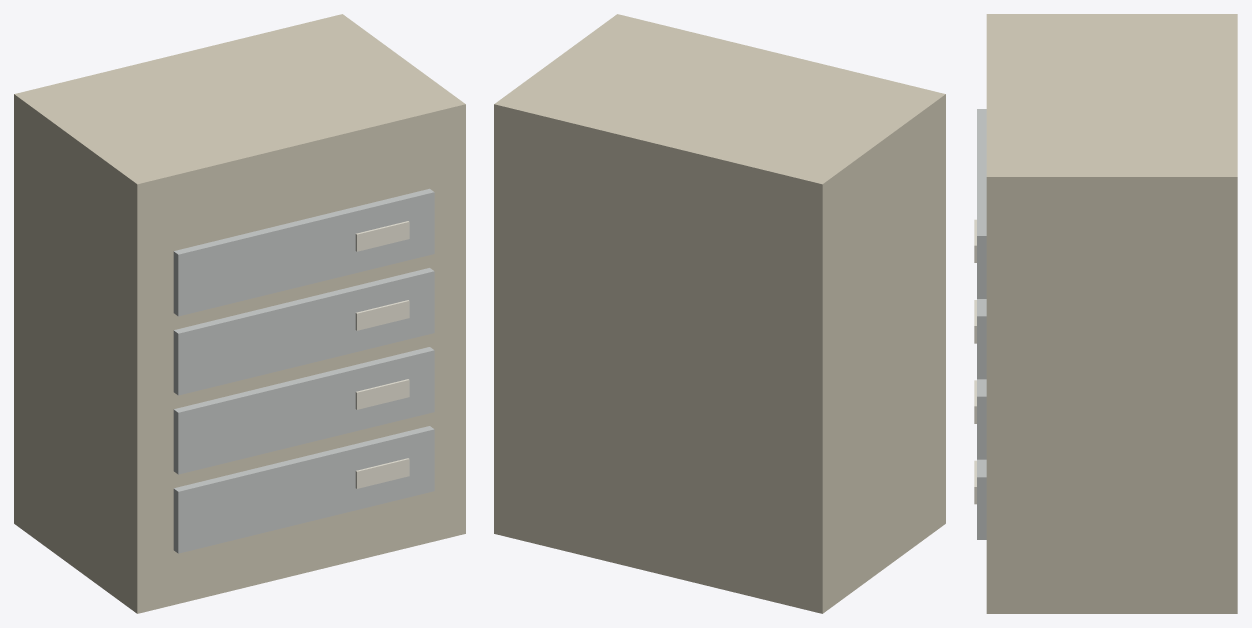
The model's file is disk_unit_01.glb.
The picture shows the model from 3 angles, left to right: view 1: azimuth 30°, elevation 25°; view 2: azimuth 150°, elevation 25°; view 3: azimuth 270°, elevation 25°; orthographic projection.
Parts seen in each view (by area): view 1: unit, drawer0, drawer1, drawer2, drawer3, label0, label1, label2, label3; view 2: unit; view 3: unit, drawer3, drawer0, drawer1, drawer2.
Boxes of the visible parts, x1,y1,x2,y2 form: unit: [14, 14, 465, 613]; drawer0: [173, 426, 434, 553]; drawer1: [173, 347, 434, 474]; drawer2: [173, 268, 434, 395]; drawer3: [173, 188, 434, 316]; label0: [355, 458, 409, 488]; label1: [355, 379, 409, 409]; label2: [355, 300, 409, 330]; label3: [355, 221, 409, 251]; unit: [494, 14, 945, 613]; unit: [986, 14, 1237, 613]; drawer3: [977, 109, 986, 298]; drawer0: [977, 459, 986, 539]; drawer1: [977, 379, 986, 459]; drawer2: [977, 299, 986, 379].
Bounding box in the file's own units: 1 × 1.25 × 0.682.
